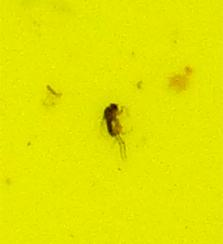Brachycera: (100, 100, 123, 144)
